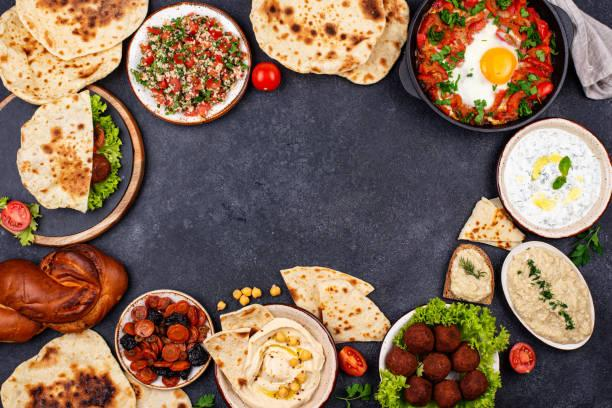Braised Crucian Carp: (0, 82, 145, 243), (402, 0, 567, 133), (124, 1, 248, 126), (3, 1, 147, 104), (212, 302, 340, 408), (495, 119, 608, 238), (378, 303, 502, 404), (500, 241, 595, 349), (114, 289, 214, 391)
